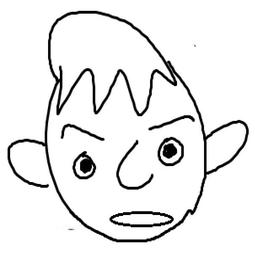ear: (194, 107, 250, 185), (7, 130, 57, 196)
eye: (67, 146, 101, 183), (156, 134, 186, 174)
frowning_eyebrow: (145, 107, 196, 135), (57, 122, 108, 143)
nose: (116, 137, 154, 199)
open_mouth: (107, 209, 175, 229)
